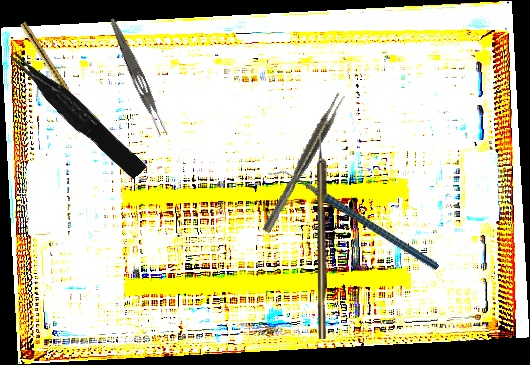Chopper: (267, 125, 440, 314)
Dressing Forceps: (103, 16, 172, 140)
Handpiece: (18, 21, 85, 118)
Hook Surgical: (317, 133, 327, 339)
Tissue Forceps: (7, 41, 147, 185), (258, 91, 348, 234)
